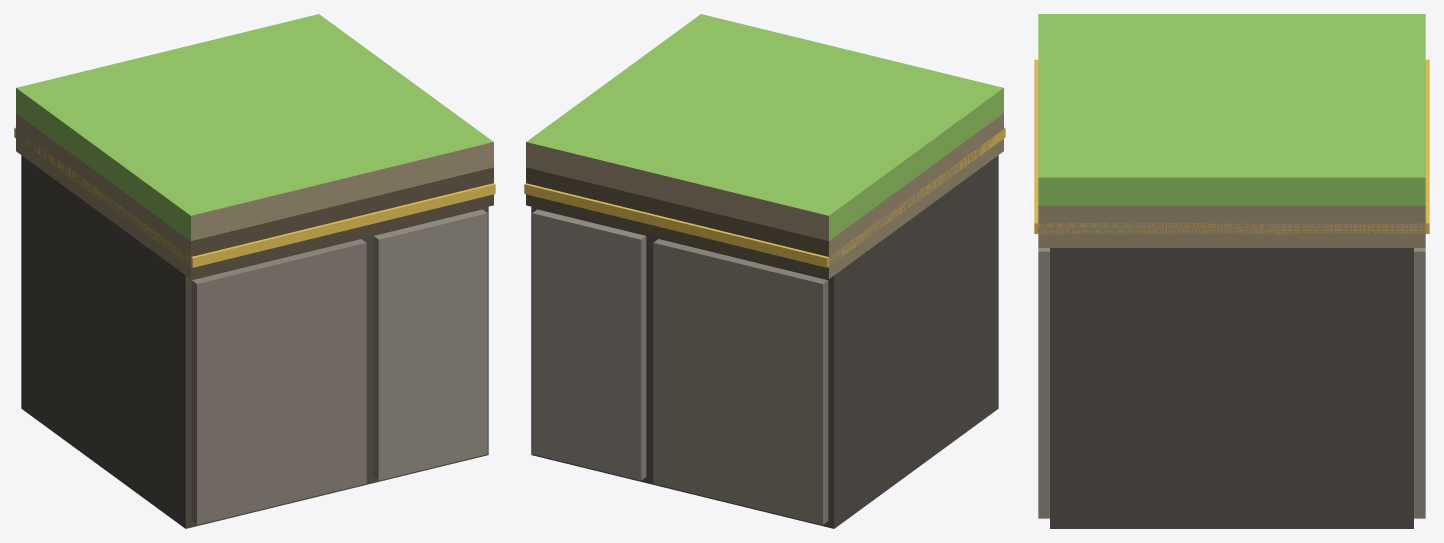
File: terrain_platform.obj
3 views of the same model, side by side, from view 1: azimuth 30°, elevation 25°; view 2: azimuth 150°, elevation 25°; view 3: azimuth 270°, elevation 25° (orthographic). The views are drawn at different scales.
Parts seen in each view (by area): view 1: terrain_platform; view 2: terrain_platform; view 3: terrain_platform.
Boxes of the visible parts, x1,y1,x2,y2 form: terrain_platform: [14, 14, 495, 528]; terrain_platform: [524, 14, 1005, 528]; terrain_platform: [1034, 14, 1429, 528].
Bounding box in the file's own units: 1 × 1 × 1.02.
1 material, 1 textured.
